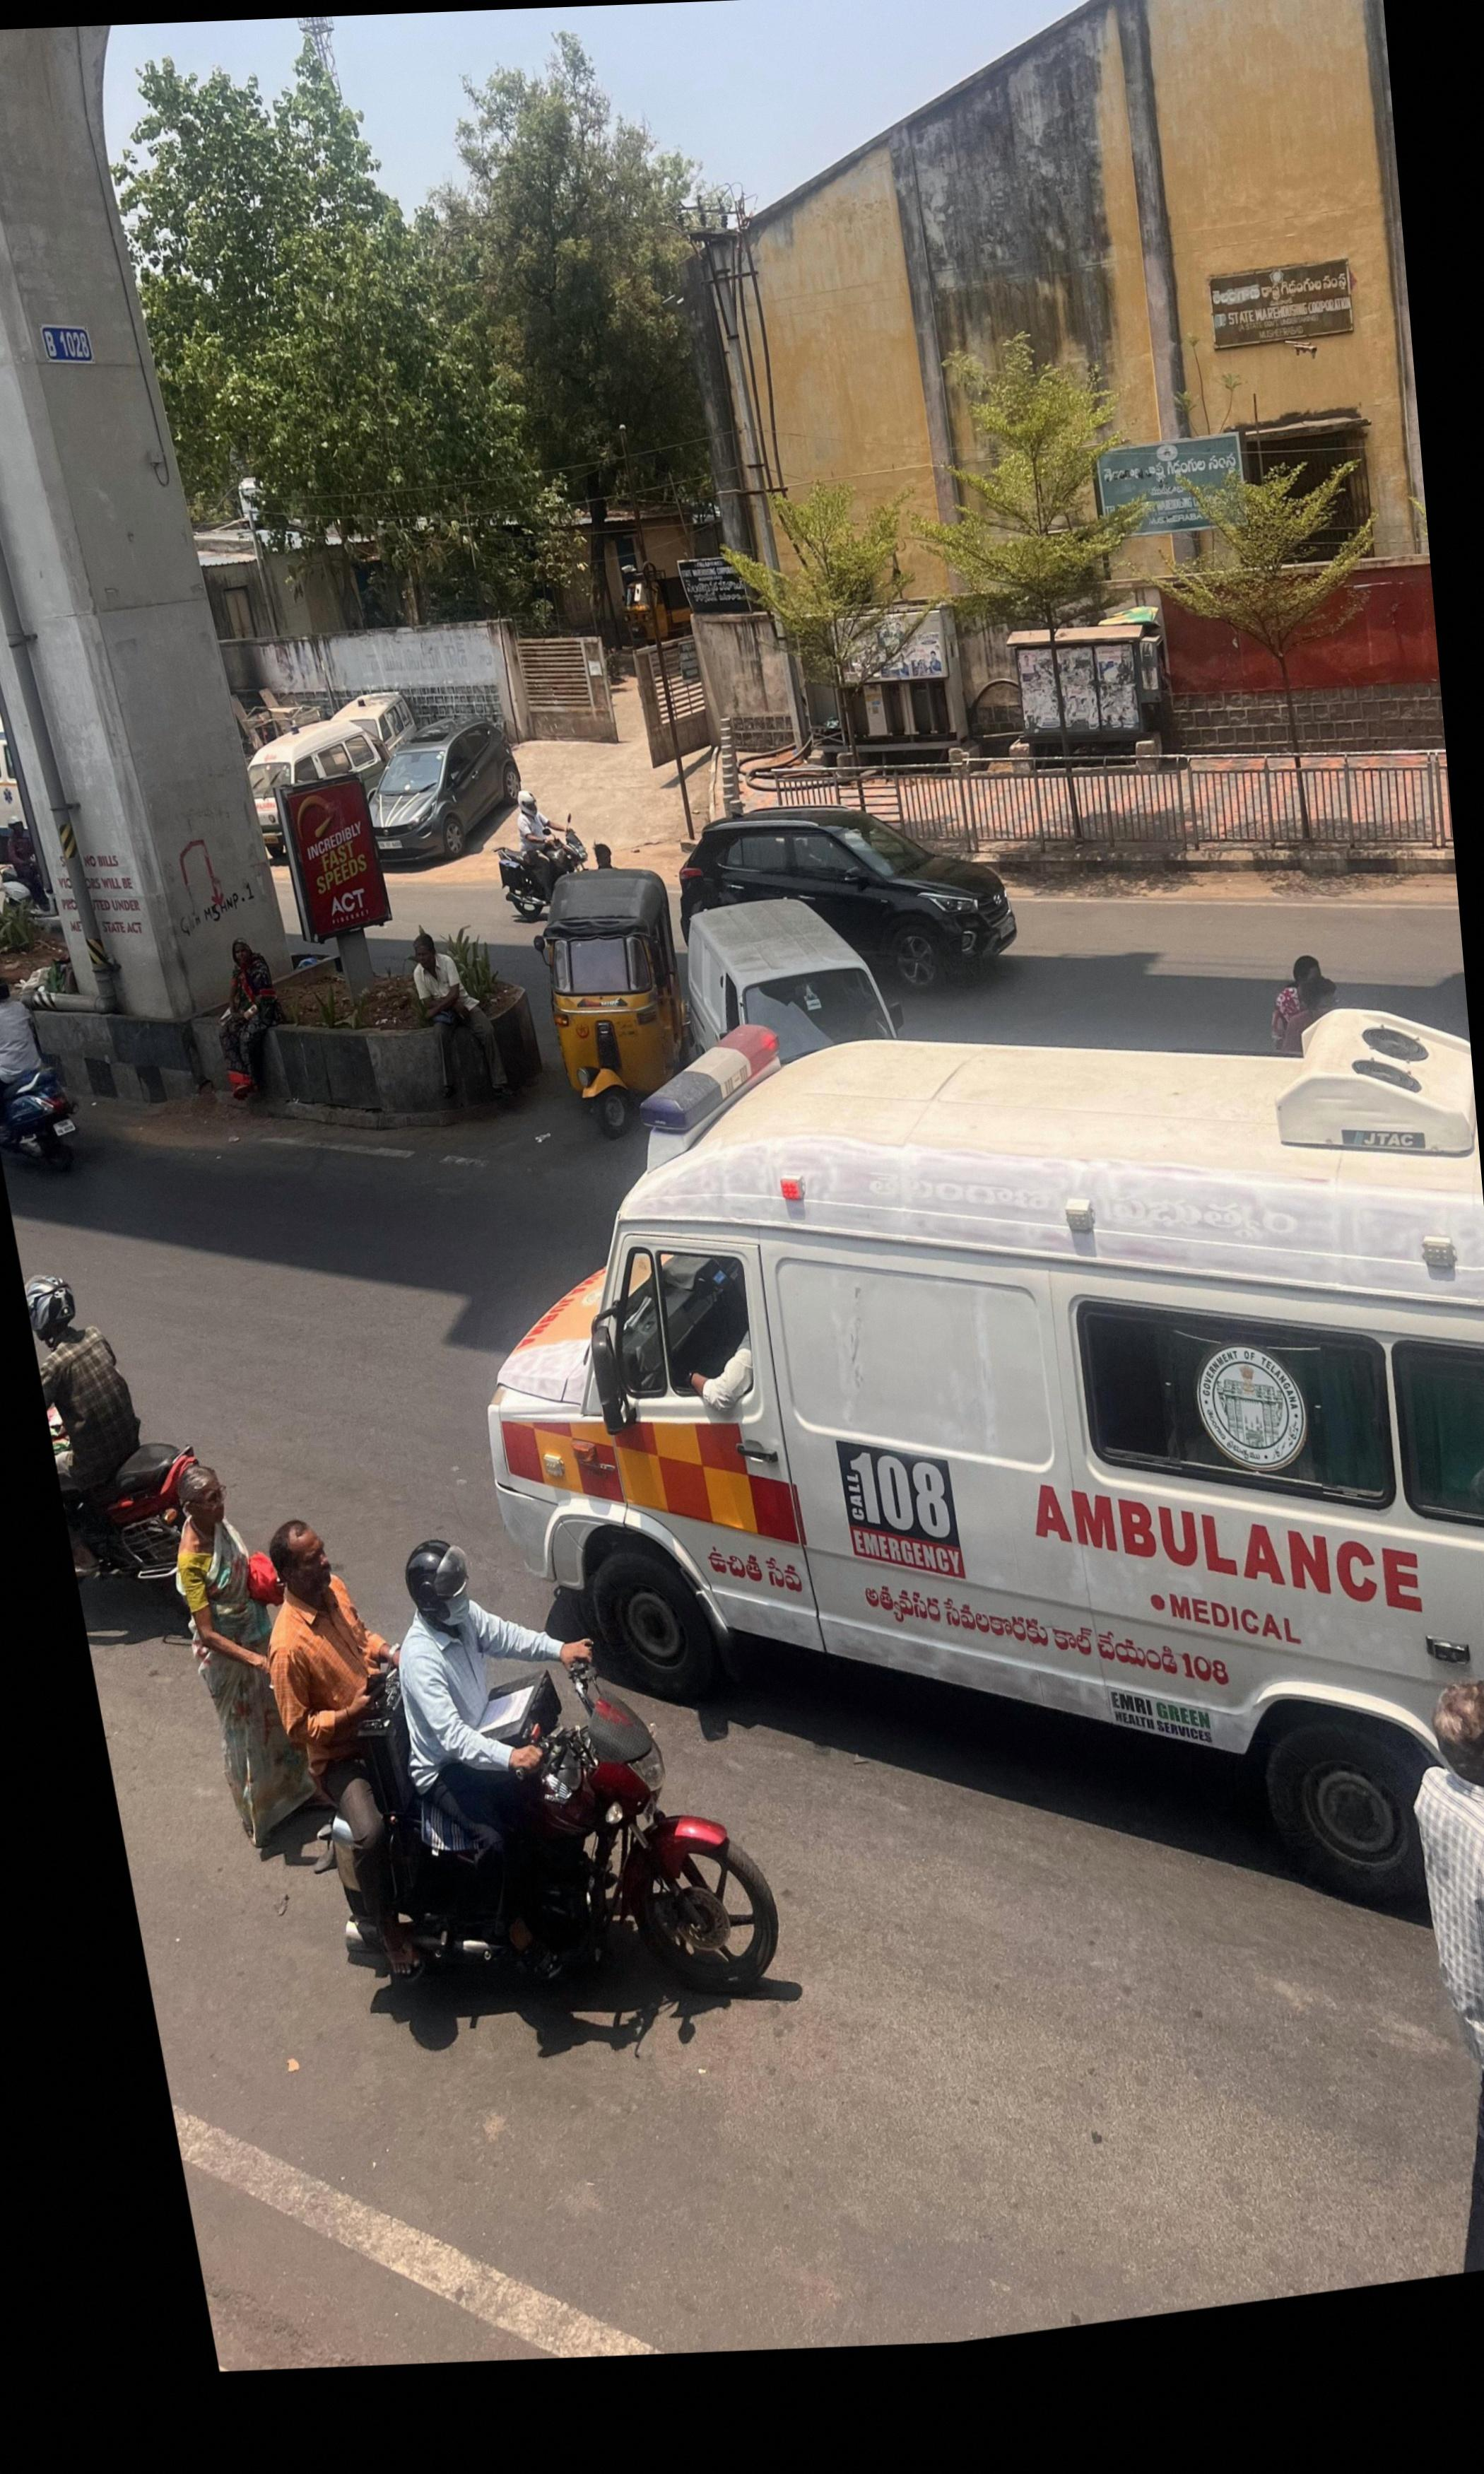ambulance: (493, 1014, 1484, 1909)
